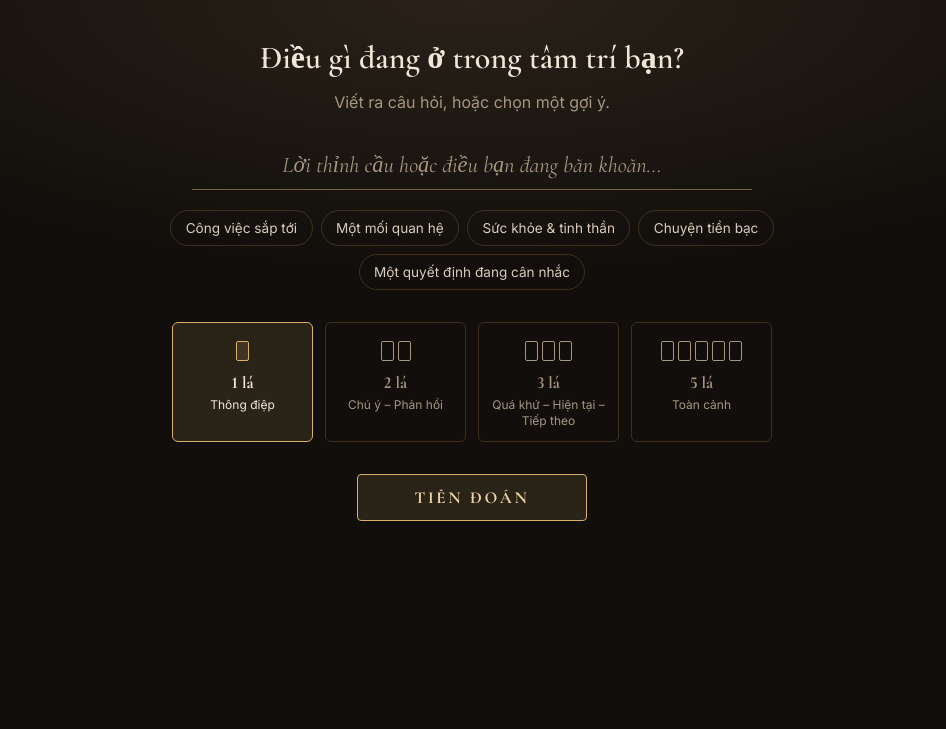
Test: RandomPullTab › lật một lá thì dải cập nhật số lá đã lật
Step 1. Type "Công việc sắp tới" into the text box named "Câu hỏi của bạn" → [472, 165], box [192,139,752,190]
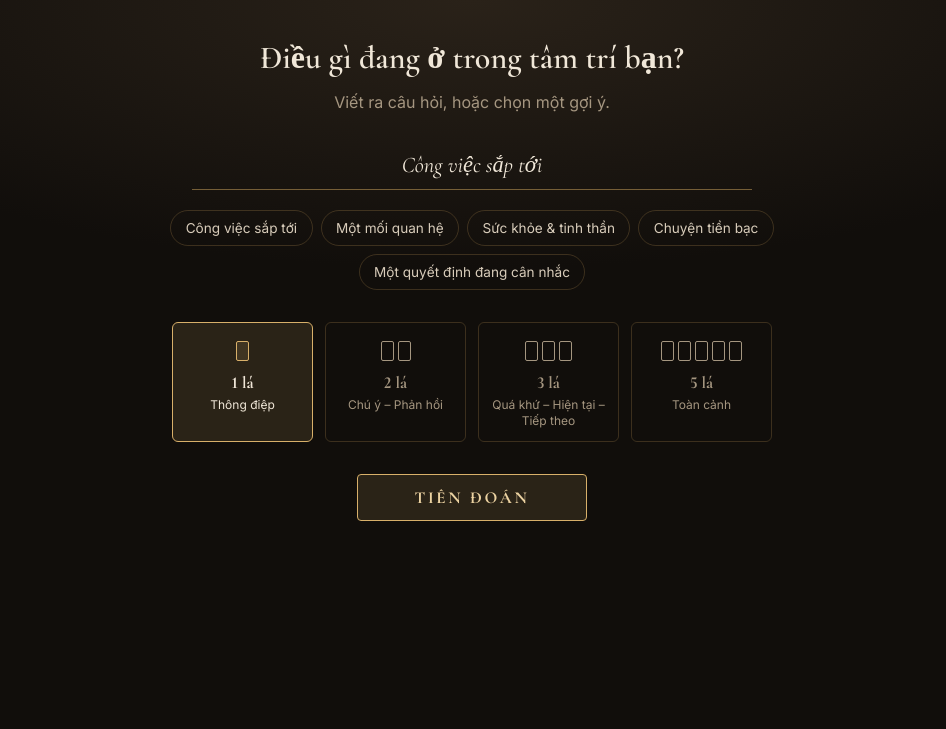
Step 2. Click the button "3 lá Quá khứ – Hiện tại – Tiếp theo" → [548, 382], box [478,322,619,442]
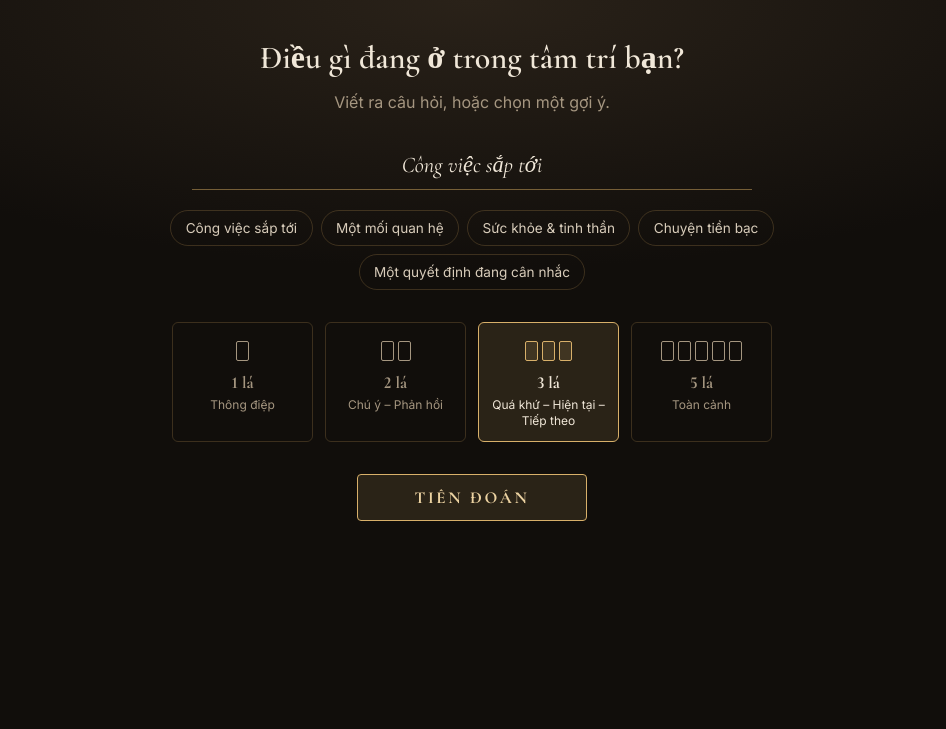
Step 3. Click the button "Tiên đoán" → [472, 497], box [358,474,587,520]
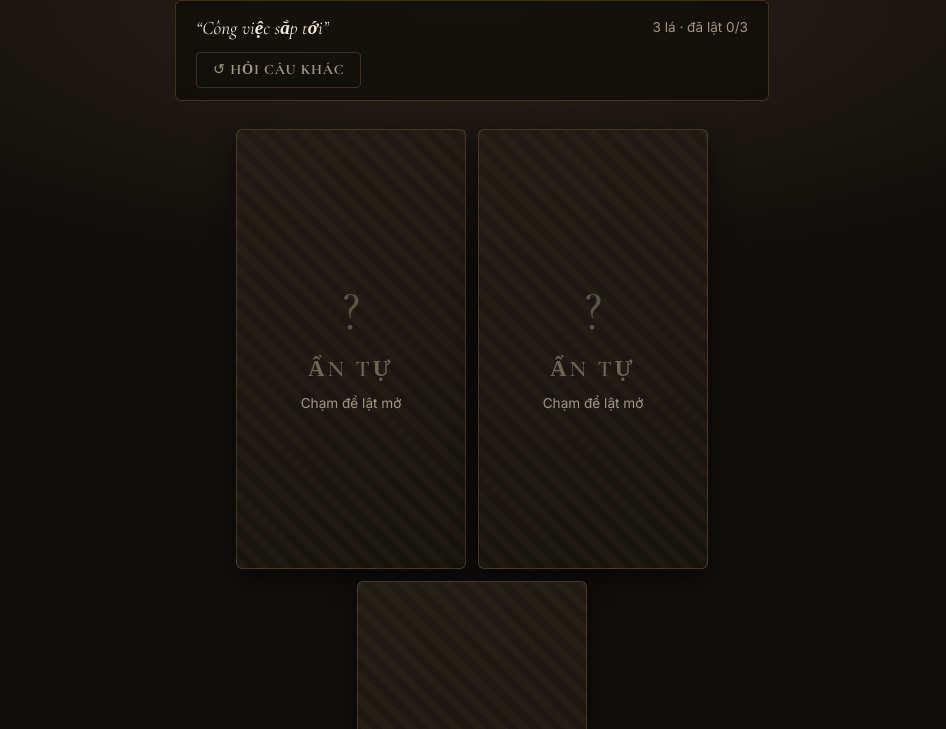
Step 4. Click the button with aria-label "Lật mở lá bài ẩn" → [351, 349], box [236,129,466,569]
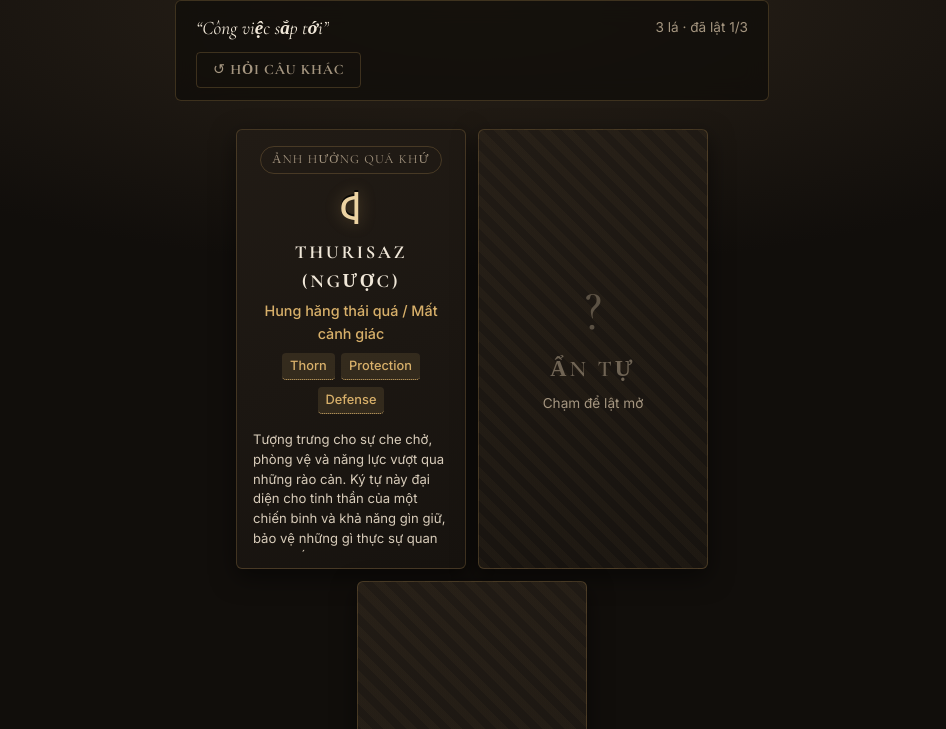
Check: the text "3 lá · đã lật 1/3" is shown, box [656,18,748,39]
